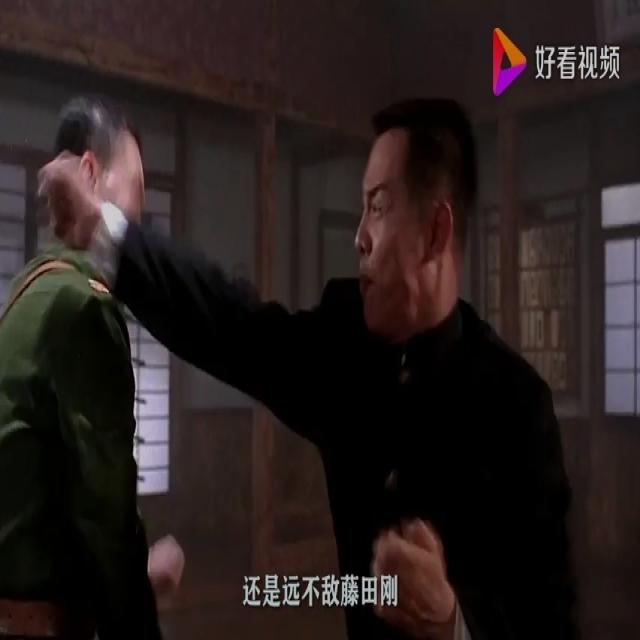fight: (0, 21, 623, 638)
